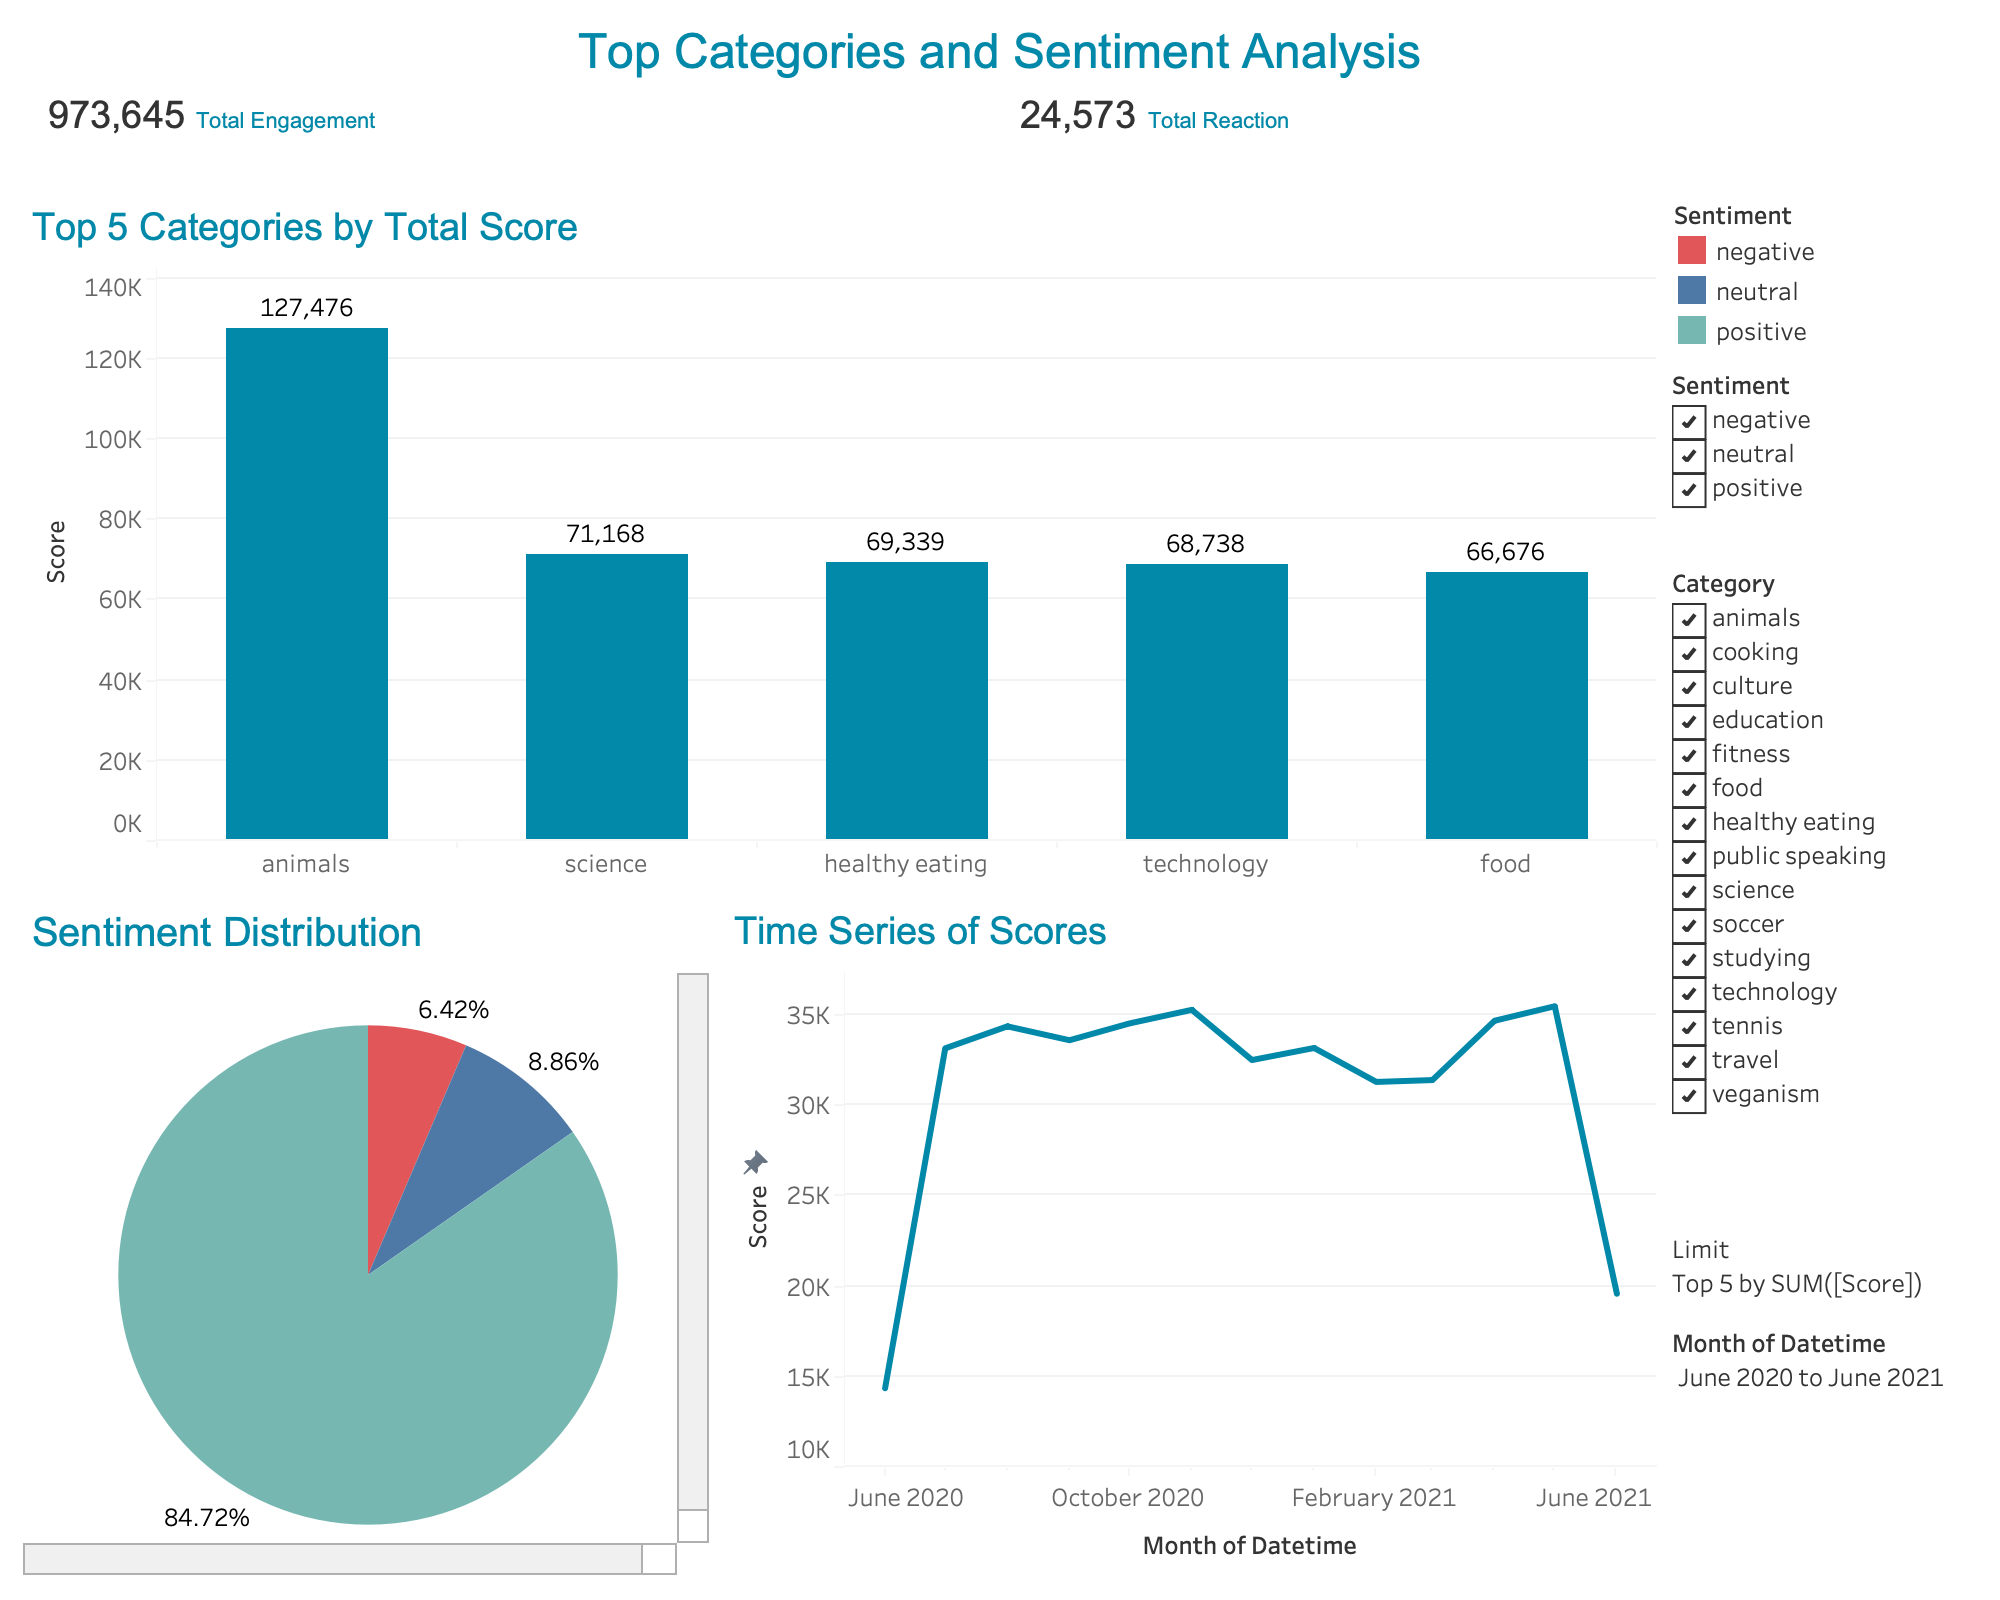

The page's visual inventory and layout, read from the dashboard file:
{"tool":"tableau","page":{"name":"Top Categories and Sentiment Analysis","canvas":[1000,800],"ordinal":0},"visuals":[{"type":"title","box":[8,8,984,35]},{"type":"worksheet","title":"Total Engagement","mark":"Automatic","box":[8,43,477,50]},{"type":"worksheet","title":"Total Reaction","mark":"Automatic","box":[485,43,507,50]},{"type":"worksheet","title":"Top Categories","mark":"Automatic","rows":["Score"],"cols":["Category"],"box":[8,93,824,352]},{"type":"legend","title":"Sentiment Distribution","param":"[federated.1n33mxr0waiykt11wpapm0w1pwfq].[none:Sentiment:nk]","box":[832,93,160,86]},{"type":"filter","title":"Sentiment Distribution","param":"[federated.1n33mxr0waiykt11wpapm0w1pwfq].[none:Sentiment:nk]","box":[832,179,160,99]},{"type":"filter","title":"Top Categories","param":"[federated.1n33mxr0waiykt11wpapm0w1pwfq].[none:Category:nk]","box":[832,278,160,380]},{"type":"worksheet","title":"Sentiment Distribution","mark":"Pie","box":[8,445,351,347]},{"type":"worksheet","title":"Time Series of Scores","mark":"Automatic","rows":["Score"],"cols":["Datetime"],"box":[359,445,473,347]},{"type":"filter","title":"Time Series of Scores","param":"[federated.1n33mxr0waiykt11wpapm0w1pwfq].[tmn:Datetime:qk]","box":[832,658,160,134]}]}

Visuals, with their boxes in screenshot pixels (x1, y1, x2, y2), scaled from the page's 1000x800 canvas onto the 2000x1600 screenshot:
title: crop(16, 16, 1984, 86)
"Total Engagement" worksheet: crop(16, 86, 970, 186)
"Total Reaction" worksheet: crop(970, 86, 1984, 186)
"Top Categories" worksheet: crop(16, 186, 1664, 890)
"Sentiment Distribution" legend: crop(1664, 186, 1984, 358)
"Sentiment Distribution" filter: crop(1664, 358, 1984, 556)
"Top Categories" filter: crop(1664, 556, 1984, 1316)
"Sentiment Distribution" worksheet (Pie marks): crop(16, 890, 718, 1584)
"Time Series of Scores" worksheet: crop(718, 890, 1664, 1584)
"Time Series of Scores" filter: crop(1664, 1316, 1984, 1584)
